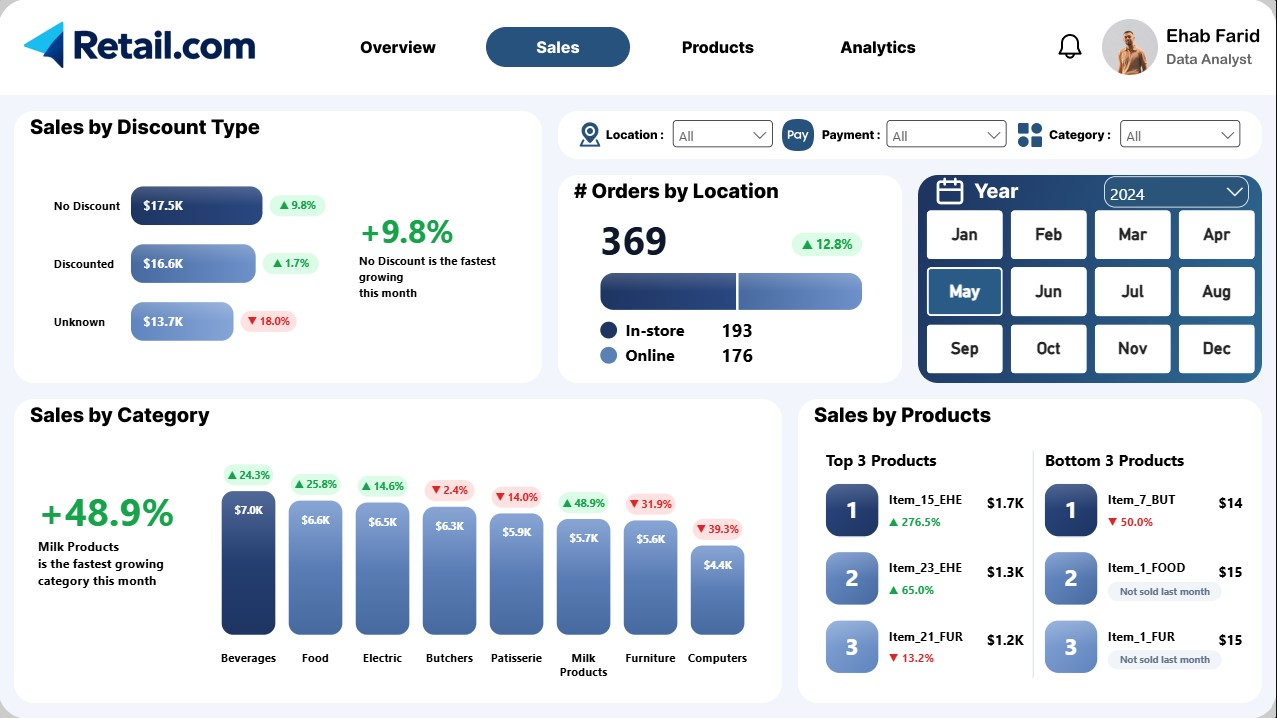

What the dashboard file says about the page in this screenshot:
{"tool":"powerbi","page":{"name":"Sales","canvas":[1280,720],"ordinal":1},"visuals":[{"type":"advancedSlicerVisual","fields":{"Values":["Dim Date.Short Month"]},"box":[928.5,211.5,328.5,164.6],"z":0},{"type":"htmlContent443BE3AD55E043BF878BED274D3A6855","fields":{"content":["Measures Table.Orders by location"]},"box":[561.2,202.5,344,182.5],"z":1000},{"type":"htmlContent443BE3AD55E043BF878BED274D3A6855","fields":{"content":["Measures Table.Top Bottom Products Visual"]},"box":[801.2,423.8,466.2,284],"z":2000},{"type":"slicer","fields":{"Values":["Fact Transaction.Location"]},"box":[670,116.3,109.5,40],"z":3000},{"type":"slicer","fields":{"Values":["Fact Transaction.Payment Method"]},"box":[883.7,116.3,130,40],"z":4000},{"type":"slicer","fields":{"Values":["Dim Items.Category"]},"box":[1117.1,115.7,130,40],"z":5000},{"type":"htmlContent443BE3AD55E043BF878BED274D3A6855","fields":{"content":["Measures Table.Sales by Category Visual"]},"box":[15.9,405.1,767.4,302.3],"z":6000},{"type":"htmlContent443BE3AD55E043BF878BED274D3A6855","fields":{"content":["Measures Table.Sales by Discount Visual"]},"box":[16.4,145,528,240],"z":7000},{"type":"actionButton","box":[327.4,27,145.2,41.7],"z":8000},{"type":"actionButton","box":[646.5,27.5,145.2,41.7],"z":9000},{"type":"actionButton","box":[807,27,145.2,41.7],"z":10000},{"type":"slicer","fields":{"Values":["Dim Date.Year"]},"box":[1101.6,172.6,154.3,38.6],"z":11000}]}

Visuals, with their boxes in screenshot pixels (x1, y1, x2, y2), scaled from the page's 1280x720 canvas onto the 1277x718 screenshot:
advancedSlicerVisual - Dim Date.Short Month: [926,211,1254,375]
htmlContent443BE3AD55E043BF878BED274D3A6855 - Measures Table.Orders by location: [560,202,903,384]
htmlContent443BE3AD55E043BF878BED274D3A6855 - Measures Table.Top Bottom Products Visual: [799,423,1264,706]
slicer - Fact Transaction.Location: [668,116,778,156]
slicer - Fact Transaction.Payment Method: [882,116,1011,156]
slicer - Dim Items.Category: [1114,115,1244,155]
htmlContent443BE3AD55E043BF878BED274D3A6855 - Measures Table.Sales by Category Visual: [16,404,781,705]
htmlContent443BE3AD55E043BF878BED274D3A6855 - Measures Table.Sales by Discount Visual: [16,145,543,384]
actionButton: [327,27,471,69]
actionButton: [645,27,790,69]
actionButton: [805,27,950,69]
slicer - Dim Date.Year: [1099,172,1253,211]
